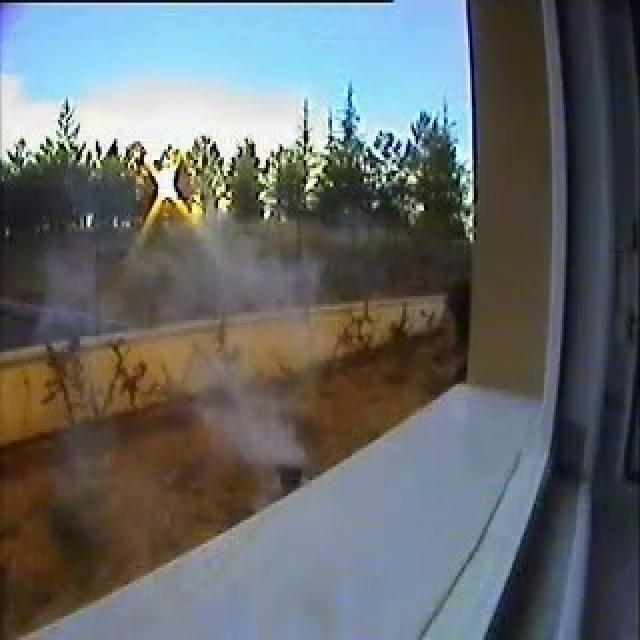Smoke: (200, 372, 302, 466)
